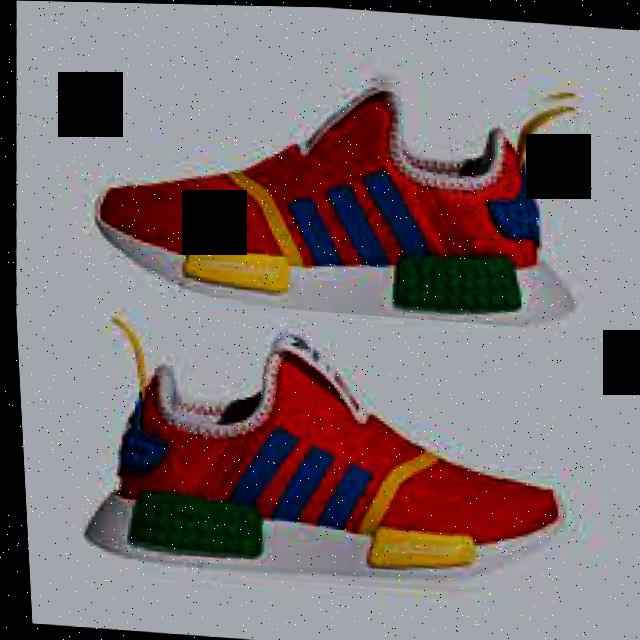shoe: (66, 305, 599, 606), (70, 48, 599, 329)
